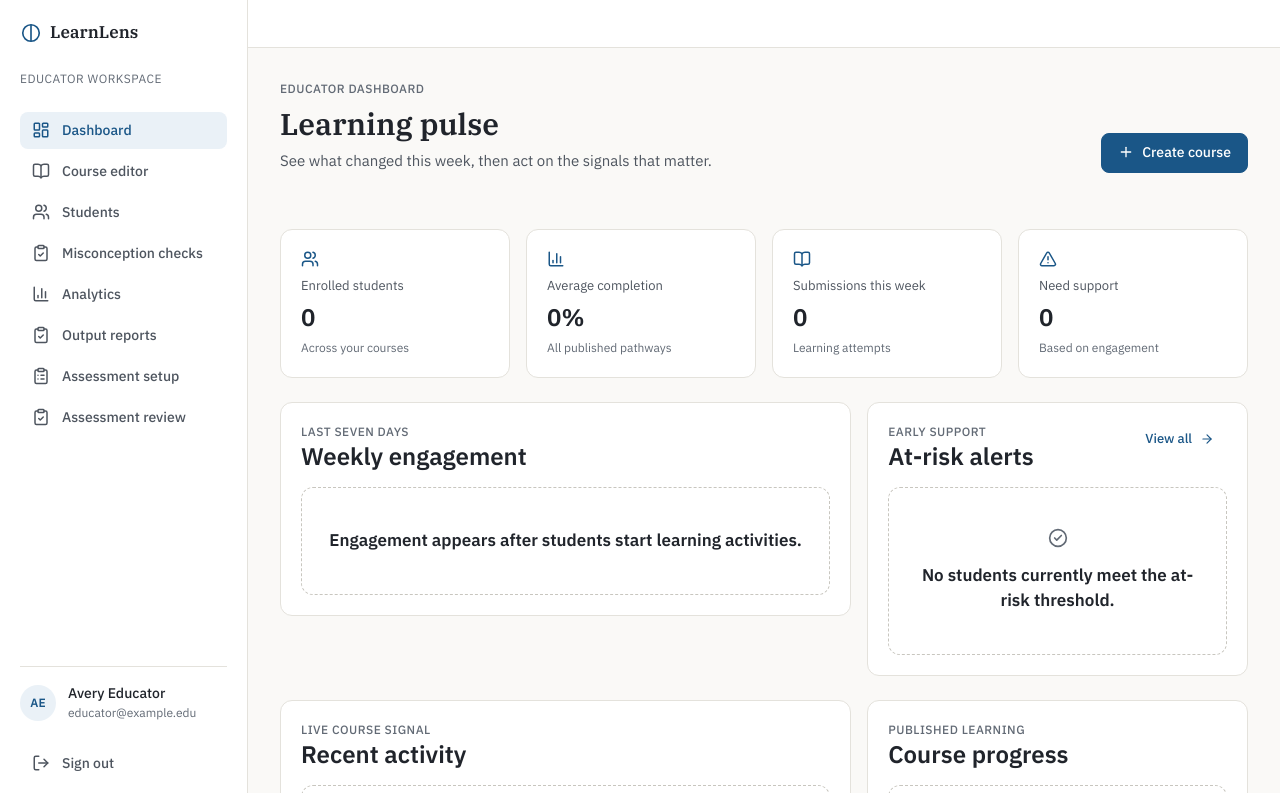
Test case: selected course revocation closes the workspace when another assignment remains
Step 1. Click the link "Assessment setup" → [106, 376], box [32,366,179,385]
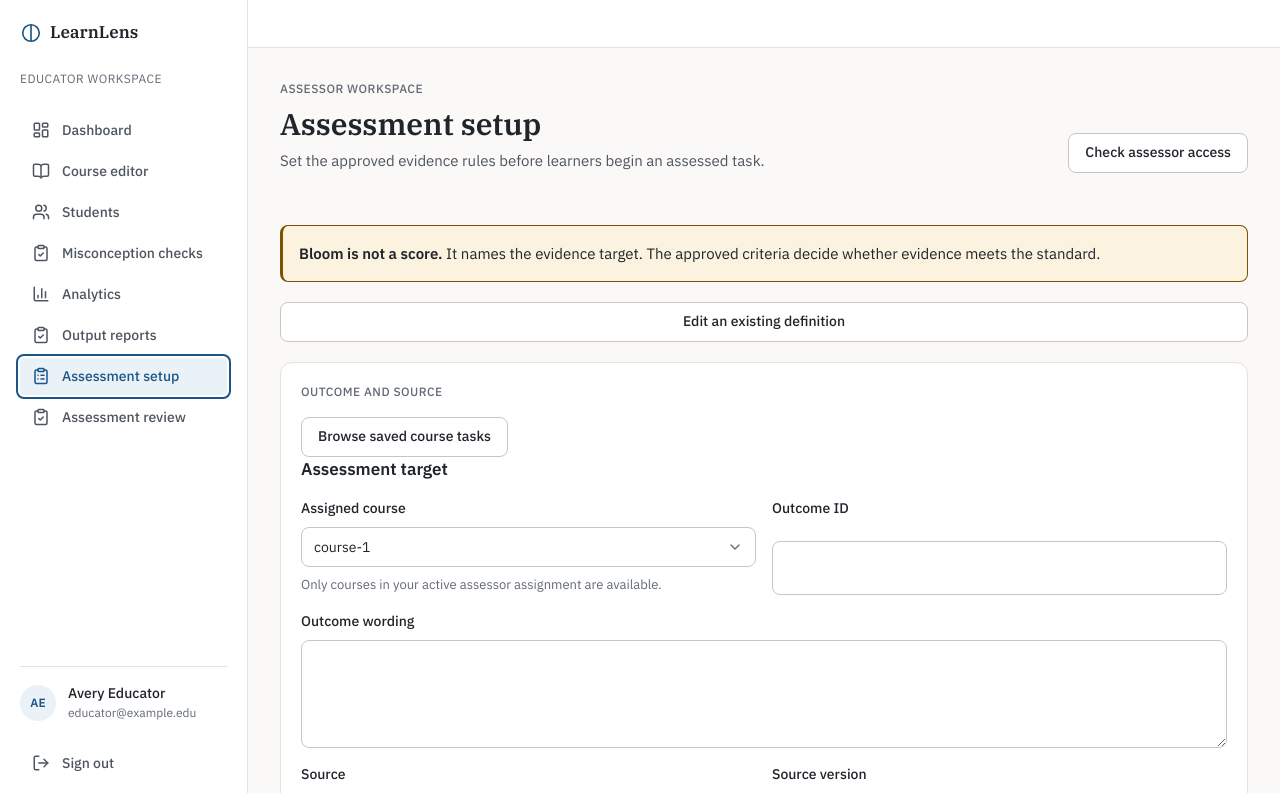
Expected: the heading "Assessment setup" is shown, [280,104,541,143]
Step 2. Click the button "Check assessor access" → [1158, 152], box [1068,132,1248,172]
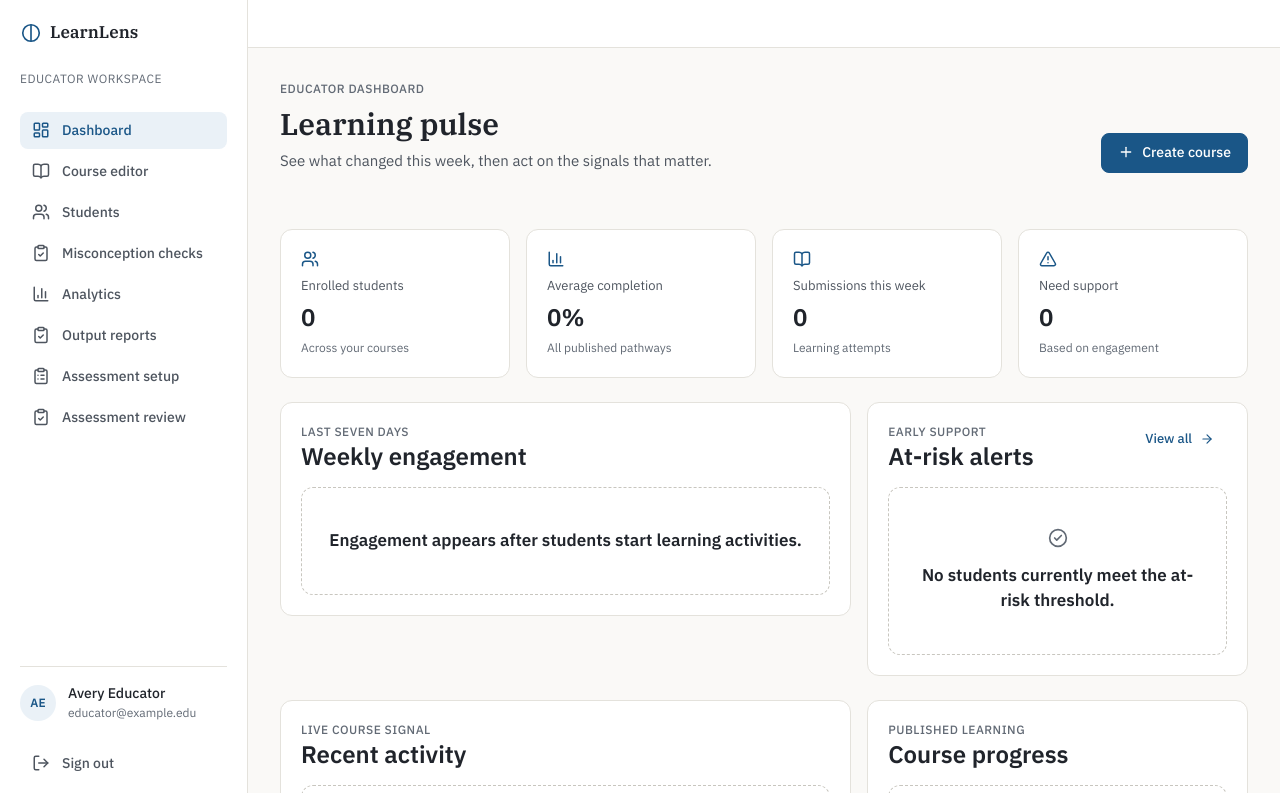
Expected: the link "Assessment setup" is shown, [32,366,179,385]
Expected: the heading "Learning pulse" is shown, [280,104,499,143]
